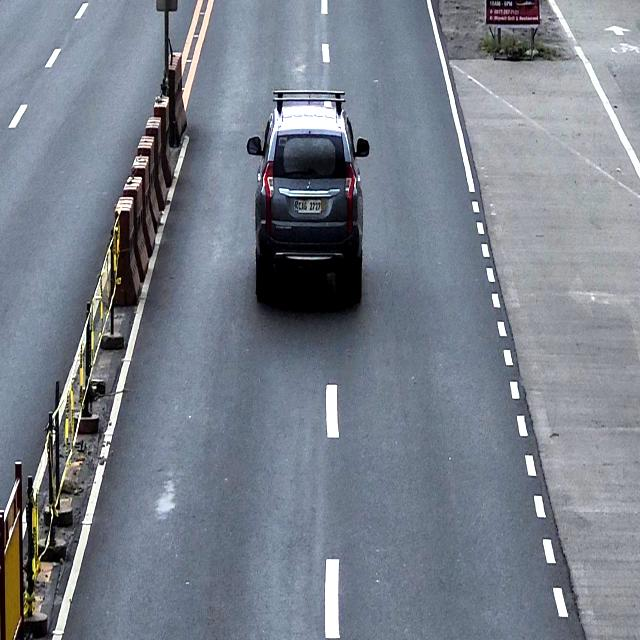Car: (246, 88, 370, 305)
License-Plate: (294, 196, 324, 215)
